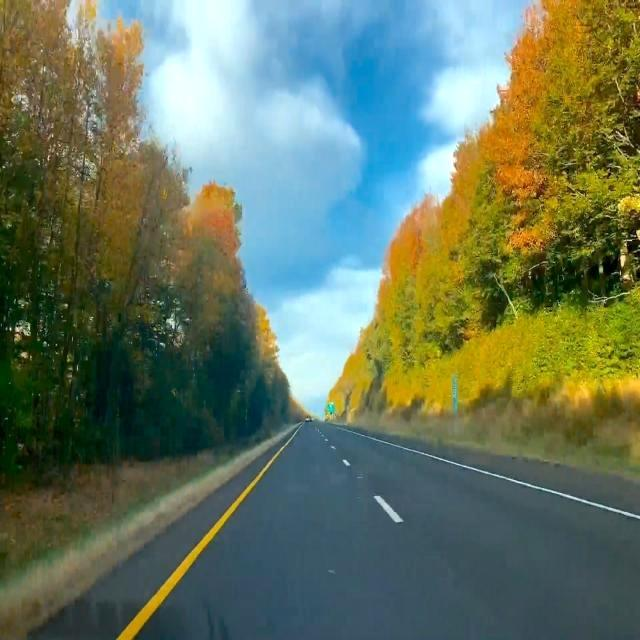lane: (116, 425, 302, 639), (336, 427, 640, 519), (374, 496, 404, 524)
road: (136, 422, 639, 639), (28, 449, 274, 639), (383, 437, 639, 513)
